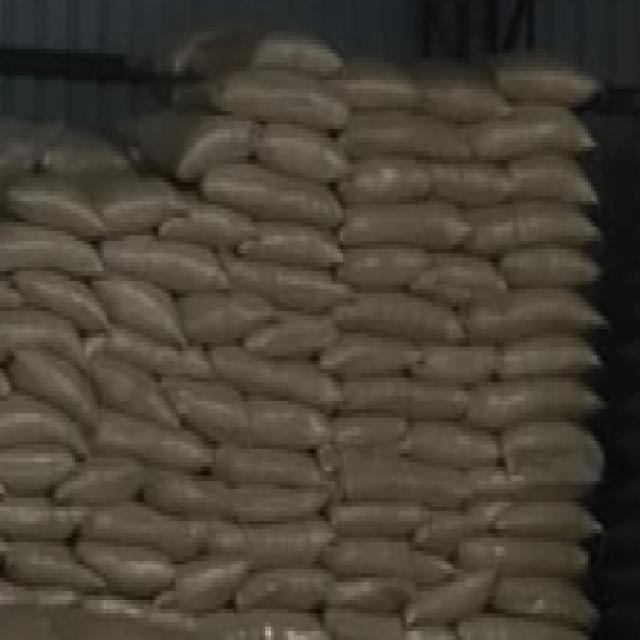Sack-2: (200, 160, 346, 232), (82, 346, 185, 438), (458, 107, 594, 166), (503, 427, 617, 497), (213, 344, 338, 406), (100, 413, 217, 478), (228, 68, 345, 132), (104, 232, 228, 291), (90, 274, 188, 347), (478, 292, 608, 347), (245, 116, 350, 184), (85, 495, 200, 556), (337, 283, 464, 337), (437, 538, 594, 580), (334, 373, 476, 418), (469, 378, 607, 424), (19, 170, 106, 242), (11, 344, 91, 420), (329, 467, 469, 510), (464, 210, 608, 250), (495, 578, 603, 631), (334, 153, 434, 210), (78, 539, 174, 597), (183, 288, 269, 352), (412, 52, 503, 112), (199, 524, 335, 564), (174, 120, 260, 183), (332, 118, 460, 160), (0, 542, 104, 593), (0, 226, 98, 280), (506, 104, 598, 160), (330, 55, 422, 111), (326, 236, 424, 288), (164, 380, 247, 441), (209, 36, 349, 72), (237, 222, 341, 270), (220, 444, 318, 494), (94, 184, 188, 236), (497, 339, 604, 384), (320, 604, 453, 640), (494, 59, 600, 103), (229, 482, 326, 530), (349, 208, 464, 248), (0, 396, 81, 452), (1, 492, 88, 544), (500, 248, 605, 291), (248, 311, 336, 362), (27, 270, 98, 333), (330, 328, 411, 383), (509, 154, 598, 204), (403, 427, 502, 471), (324, 542, 441, 579), (418, 247, 496, 301), (54, 464, 151, 507), (166, 200, 252, 248), (250, 398, 324, 453), (326, 416, 405, 466), (494, 545, 591, 585), (412, 577, 500, 621), (238, 570, 329, 612), (502, 506, 606, 542), (326, 502, 425, 538), (428, 159, 511, 201), (170, 564, 253, 605), (146, 476, 233, 515), (410, 340, 497, 378), (452, 458, 516, 509), (0, 446, 80, 486), (415, 504, 506, 539), (329, 580, 410, 615), (460, 620, 592, 636)
